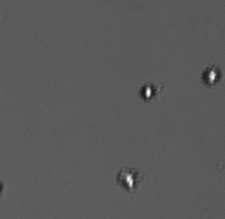Living Cell: (119, 168, 140, 189), (203, 66, 220, 84), (140, 84, 156, 101)
